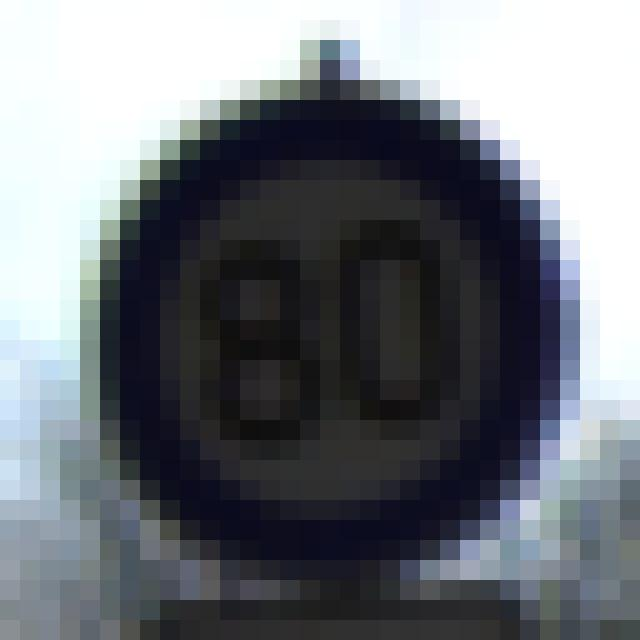SPEED-LIMIT-80: (81, 81, 561, 559)
